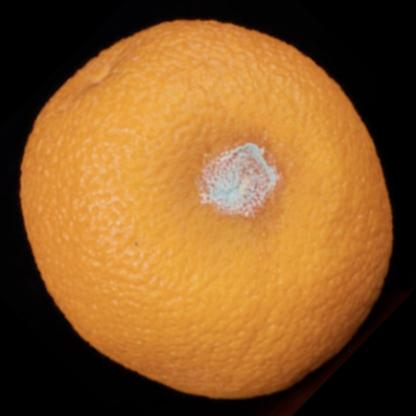rotten: (20, 20, 396, 401)
